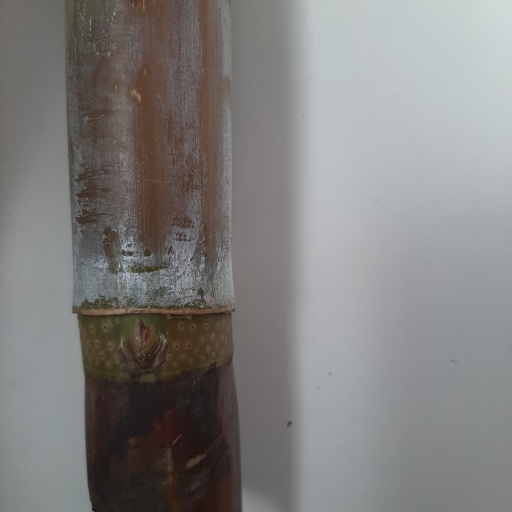Bud: (126, 318, 163, 371)
